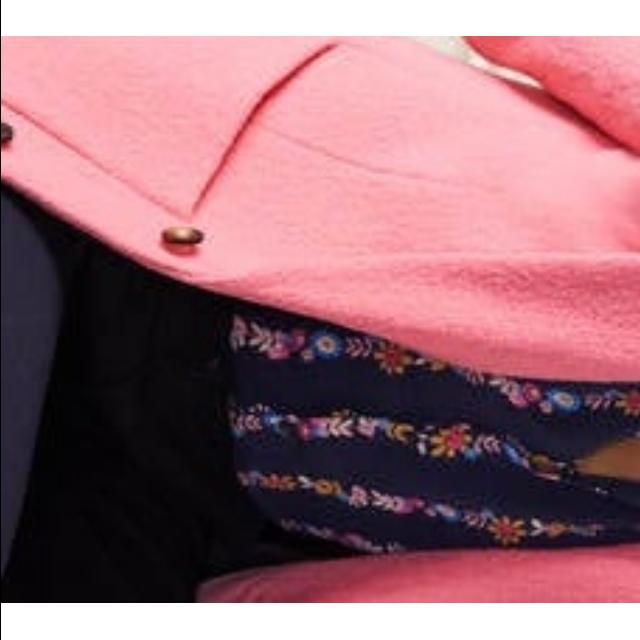wool: (88, 36, 640, 604)
